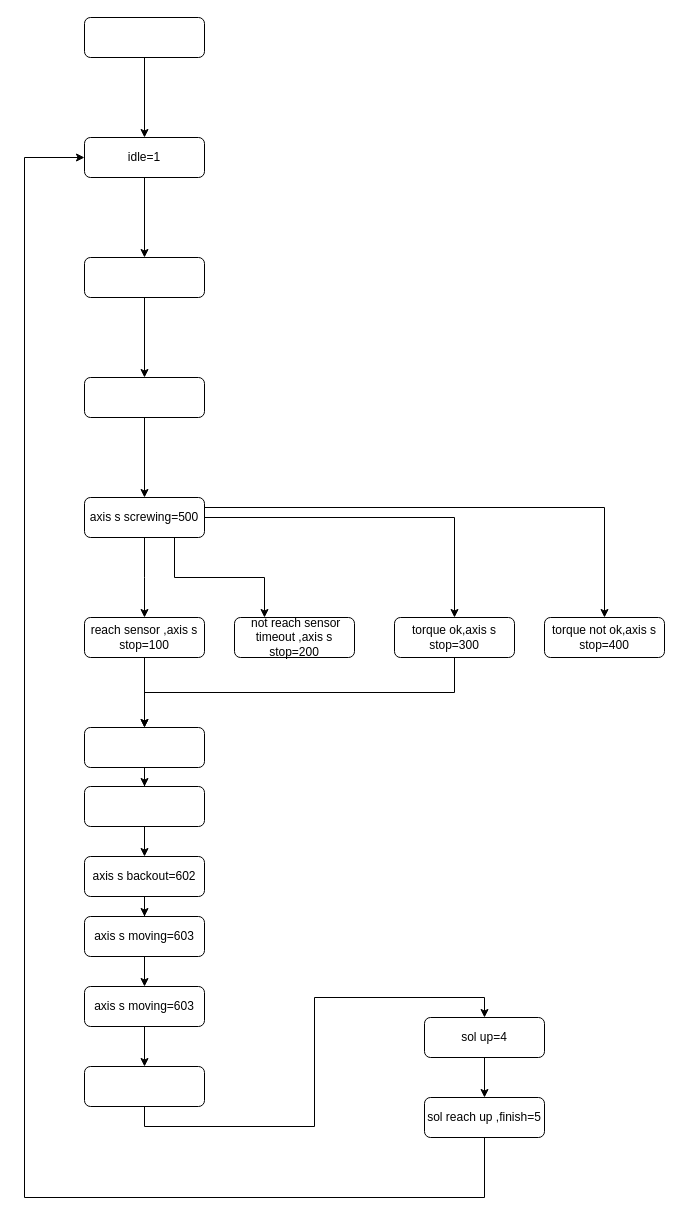
The diagram is 682 pixels wide and 1223 high, and some of its shapes have lost their labels. The centre of each missing label's shape, as x and y in pixels:
"axis s moved=604" goes at [144,1086].
"axis s start=3" goes at [144,397].
"axis s stoped=601" goes at [144,806].
"axis s stoping=600" goes at [144,747].
"PowerON=0" goes at [144,37].
"start,sol down=2" goes at [144,277].
